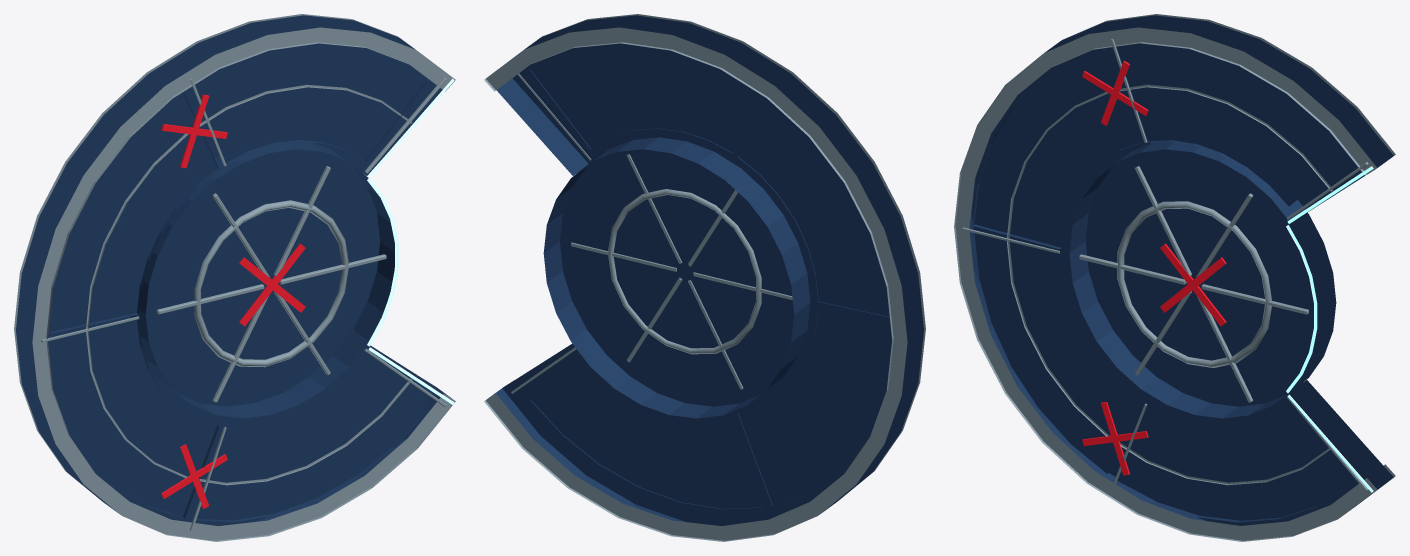
File: foundry-panel-fun0-low.glb
3 views of the same model, side by side, from view 1: azimuth 30°, elevation 25°; view 2: azimuth 150°, elevation 25°; view 3: azimuth 330°, elevation 25° (orthographic).
Visible parts, largest first — view 1: RENDER_PANEL_SHELL, RENDER_PANEL_FRAME, RENDER_PANEL_HAZARD, RENDER_PANEL_SIGNAL; view 2: RENDER_PANEL_SHELL, RENDER_PANEL_FRAME; view 3: RENDER_PANEL_SHELL, RENDER_PANEL_FRAME, RENDER_PANEL_HAZARD, RENDER_PANEL_SIGNAL.
Part boxes in pixels (x1,y1,x2,y2): RENDER_PANEL_SHELL: (16,15,451,525); RENDER_PANEL_FRAME: (14,14,455,541); RENDER_PANEL_HAZARD: (161,94,305,508); RENDER_PANEL_SIGNAL: (367,78,454,404); RENDER_PANEL_SHELL: (488,15,923,525); RENDER_PANEL_FRAME: (484,14,925,541); RENDER_PANEL_SHELL: (969,15,1393,525); RENDER_PANEL_FRAME: (954,14,1395,541); RENDER_PANEL_HAZARD: (1082,61,1226,475); RENDER_PANEL_SIGNAL: (1286,166,1373,492).
Size of what is drawn, in the model's own units: 36.2 by 41 by 3.09.
